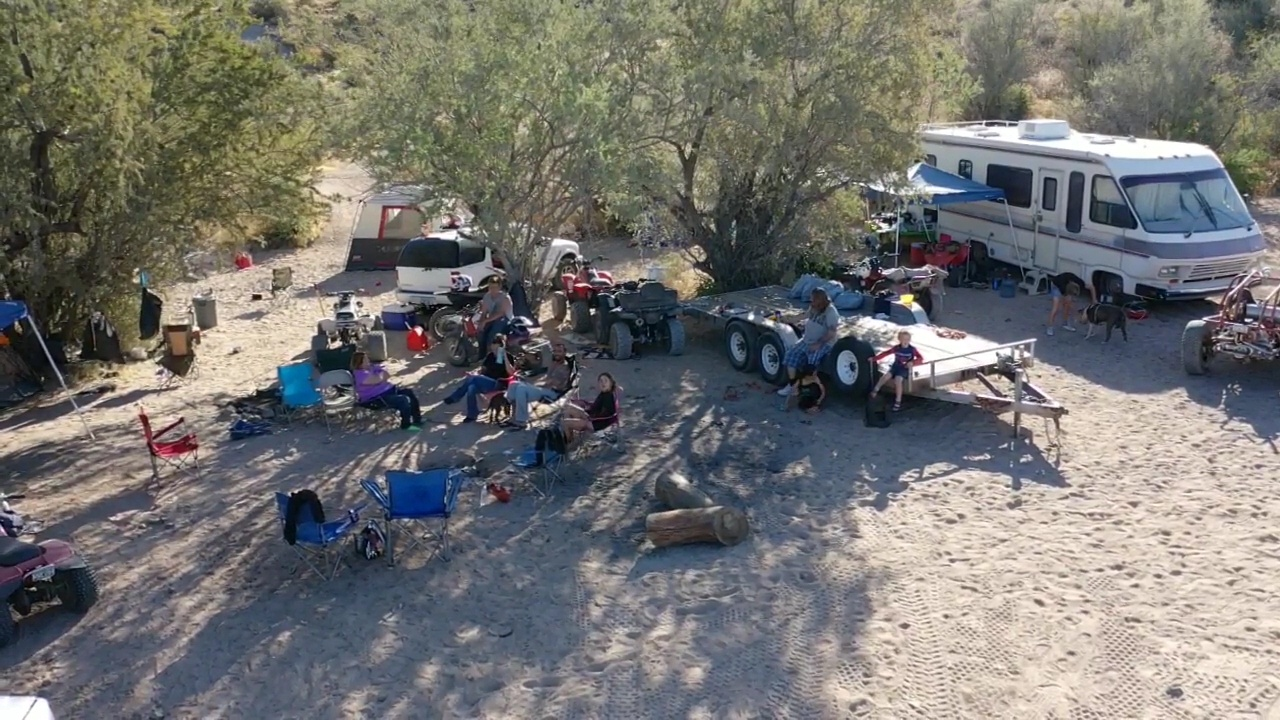araba: (392, 217, 583, 310)
insan: (773, 287, 835, 397), (347, 344, 423, 432), (444, 334, 516, 424), (506, 342, 573, 430), (555, 376, 625, 458), (867, 330, 921, 408), (466, 275, 515, 360), (1044, 270, 1096, 334)
otobus: (880, 98, 1267, 312)
